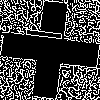I: (25, 25, 73, 44)
